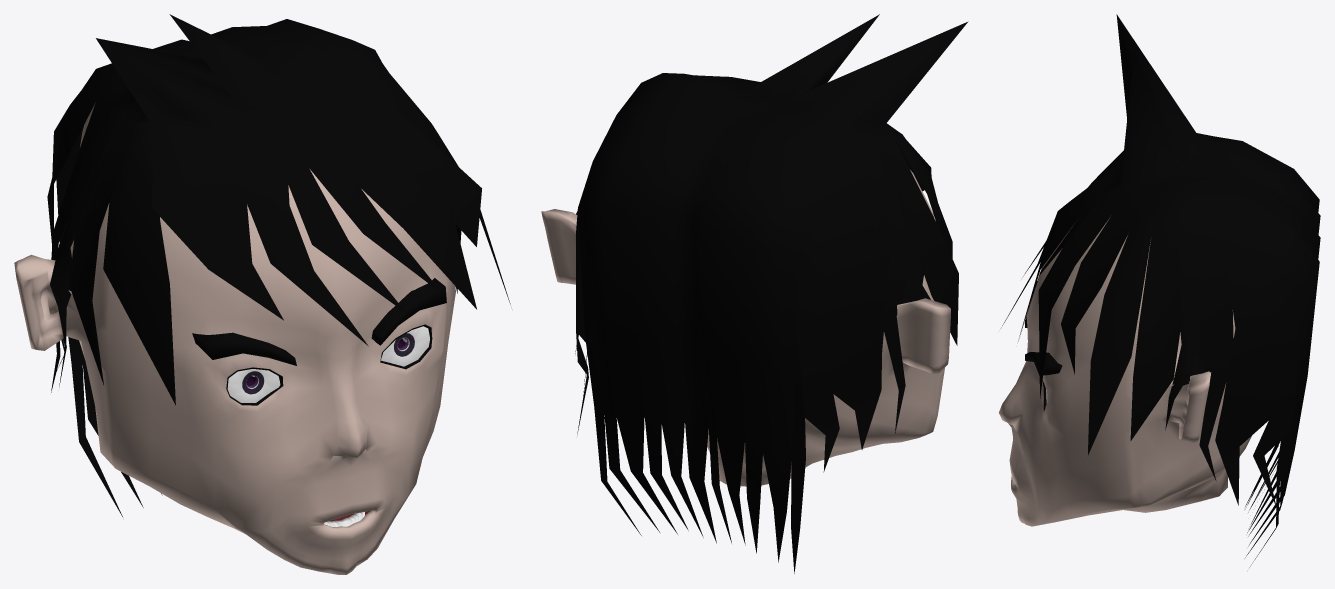
The model's file is player_mno_head.glb.
The picture shows the model from 3 angles, left to right: view 1: azimuth 30°, elevation 25°; view 2: azimuth 150°, elevation 25°; view 3: azimuth 270°, elevation 25°; orthographic projection. The views are drawn at different scales.
Visible parts, largest first — view 1: mnoTrouser; view 2: mnoTrouser; view 3: mnoTrouser.
Boxes of the visible parts, x1,y1,x2,y2 form: mnoTrouser: (14,14,510,574); mnoTrouser: (541,14,968,573); mnoTrouser: (999,14,1320,567).
Bounding box in the file's own units: 0.5684 × 0.7085 × 0.4568.
6 materials, 1 textured.
